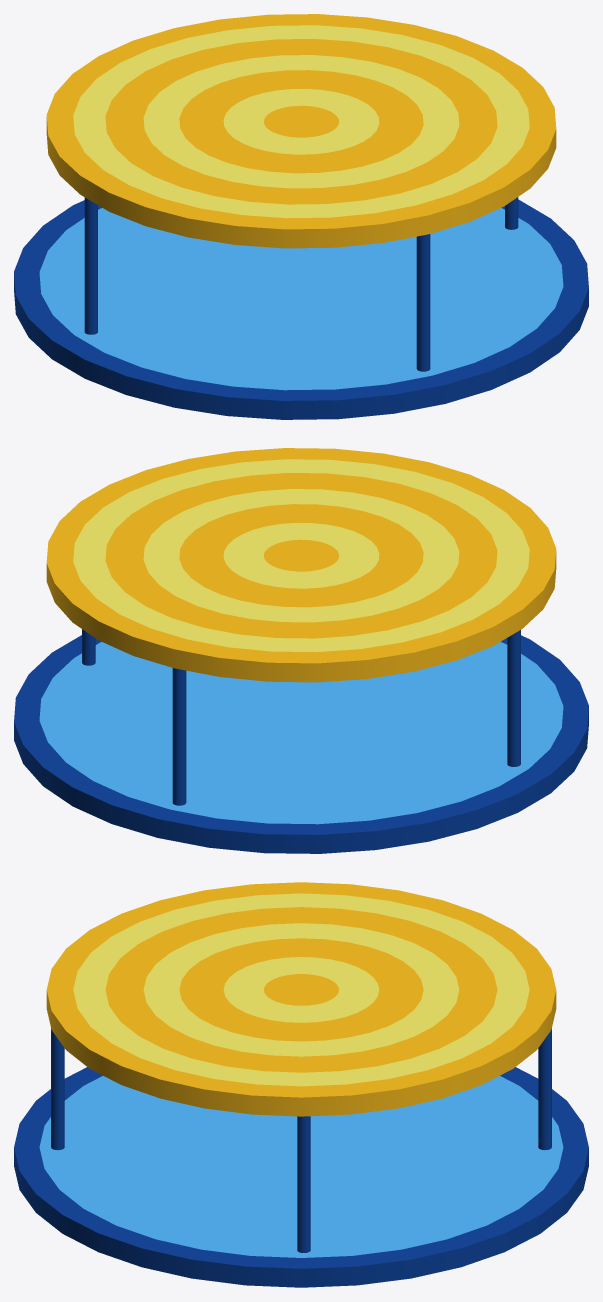
The model's file is Bumper.fbx.
3 renders of one model, top to bottom at view 1: azimuth 30°, elevation 25°; view 2: azimuth 150°, elevation 25°; view 3: azimuth 270°, elevation 25°, orthographic.
Parts seen in each view (by area): view 1: Bumper; view 2: Bumper; view 3: Bumper.
Part boxes in pixels (<box>): Bumper: <box>14,14,588,419</box>; Bumper: <box>14,448,588,853</box>; Bumper: <box>14,882,588,1287</box>.
Size of the model in its own units: 279 by 94.51 by 279.
Materials: 1 (1 with a texture image).
